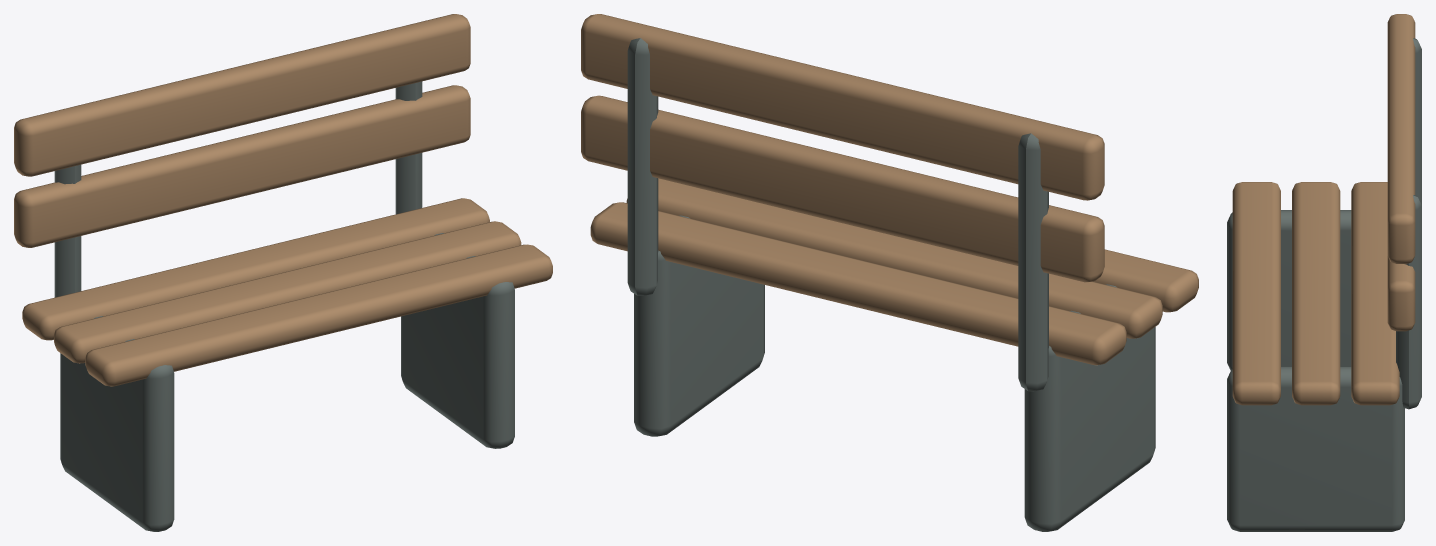
Rendered from Bench.fbx.
3 views of the same model, side by side, from view 1: azimuth 30°, elevation 25°; view 2: azimuth 150°, elevation 25°; view 3: azimuth 270°, elevation 25° (orthographic). The views are drawn at different scales.
Visible parts, largest first — view 1: Wood.004, Iron.004; view 2: Wood.004, Iron.004; view 3: Wood.004, Iron.004.
Boxes of the visible parts, bbox=[...] form: Wood.004: bbox=[14, 14, 552, 386]; Iron.004: bbox=[54, 81, 514, 531]; Wood.004: bbox=[581, 14, 1198, 365]; Iron.004: bbox=[627, 38, 1155, 531]; Wood.004: bbox=[1232, 14, 1415, 405]; Iron.004: bbox=[1227, 38, 1421, 531].
Size of the model in its own units: 132 by 101 by 52.5.
